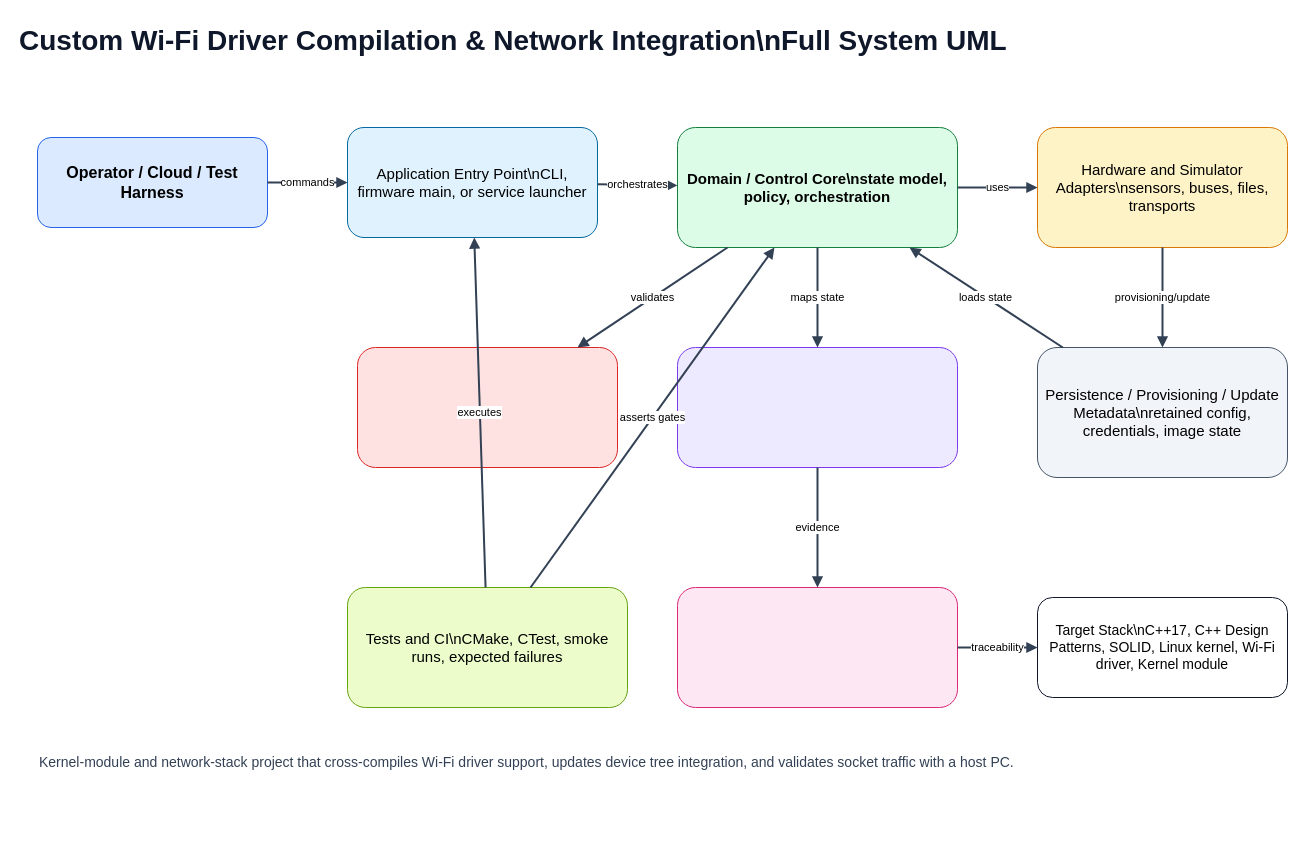
The diagram is 1305 pixels wide and 844 high, and some of its shapes have lost their labels. Here are the shapes that lost their labels. From the top down, the box of each, then its label:
(356, 346, 618, 468): Safety / Readiness Gates\nconfig, battery, timing, OTA, bounds
(676, 346, 958, 468): Telemetry and Evidence\nJSON, reports, logs, measurements
(676, 586, 958, 708): Documentation Package\nREADME, architecture, validation plan, UML
